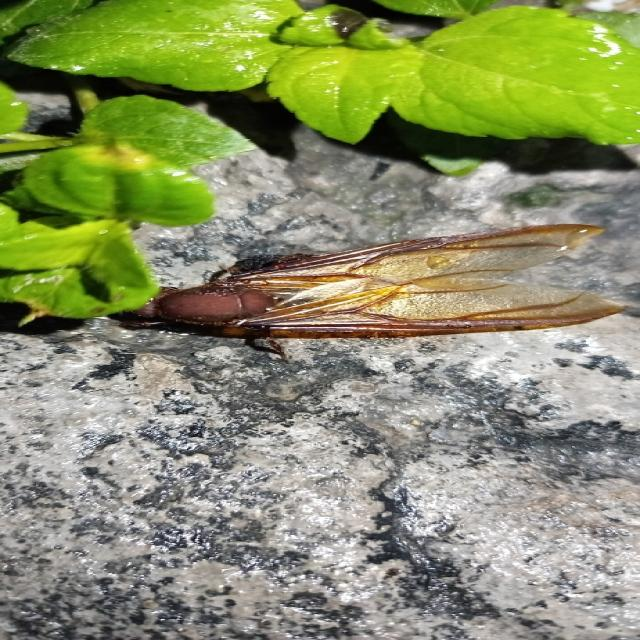Alive-Female-Alate: (114, 224, 628, 366)
